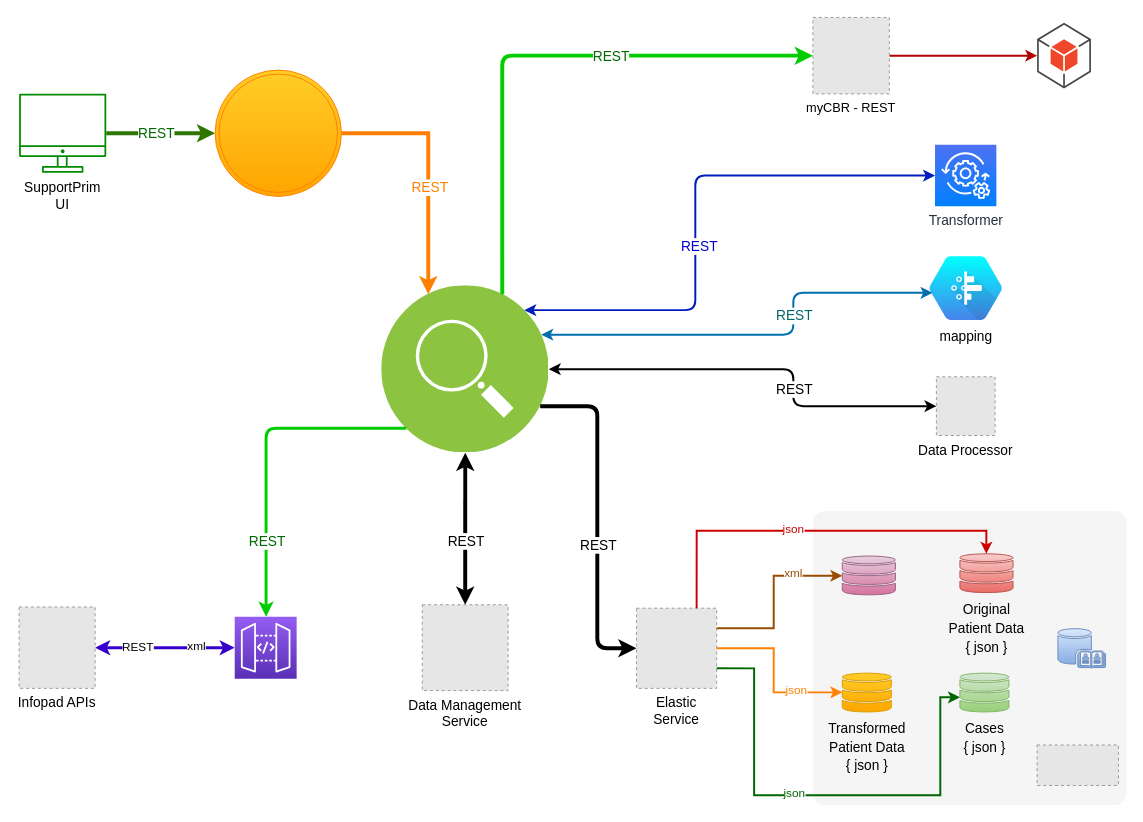
Some shapes in this 1143 by 822 pixel diagram are drawn without their labels. Grey dashed boxes stand in for pictures. Each missing label, with the box of its shape:
CBR Interface: (214, 69, 341, 196)
Discovery Server: (381, 285, 548, 452)
Infopad Interface: (234, 616, 297, 679)
mycbr-sdk: (1036, 22, 1091, 89)
Original Patient Data < xml >: (841, 555, 895, 595)
User Data: (1057, 628, 1106, 668)
